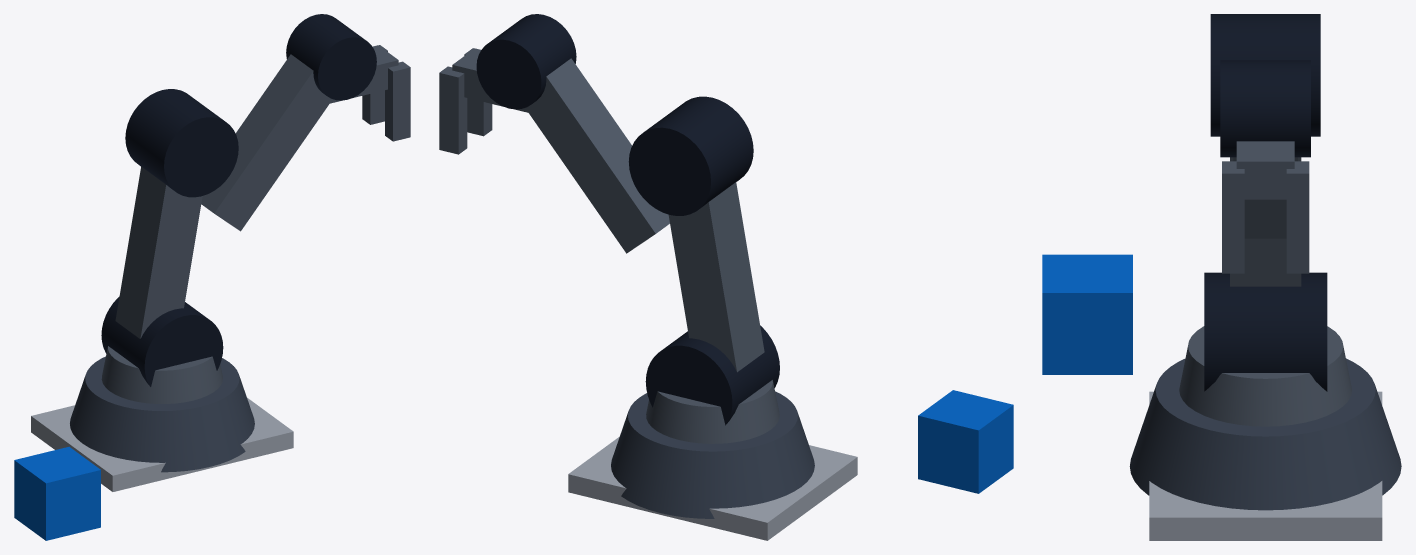
File: robot-arm-industrial.glb
The picture shows the model from 3 angles, left to right: view 1: azimuth 30°, elevation 25°; view 2: azimuth 150°, elevation 25°; view 3: azimuth 270°, elevation 25°; orthographic projection. The views are drawn at different scales.
Parts seen in each view (by area): view 1: robot-arm-industrial; view 2: robot-arm-industrial; view 3: robot-arm-industrial.
Part boxes in pixels (bbox=[...]): robot-arm-industrial: bbox=[14, 14, 410, 540]; robot-arm-industrial: bbox=[439, 14, 1013, 540]; robot-arm-industrial: bbox=[1042, 14, 1401, 540].
Size of the model in its own units: 2.18 by 1.81 by 1.11.
